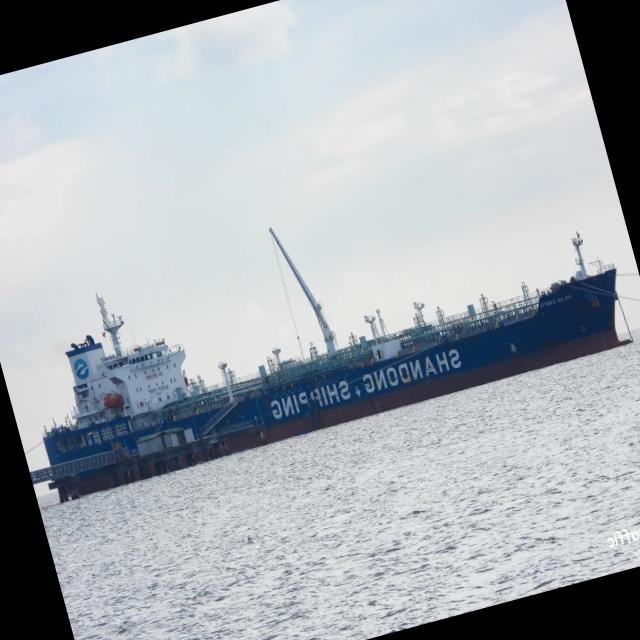Tanker: (30, 228, 631, 501)
